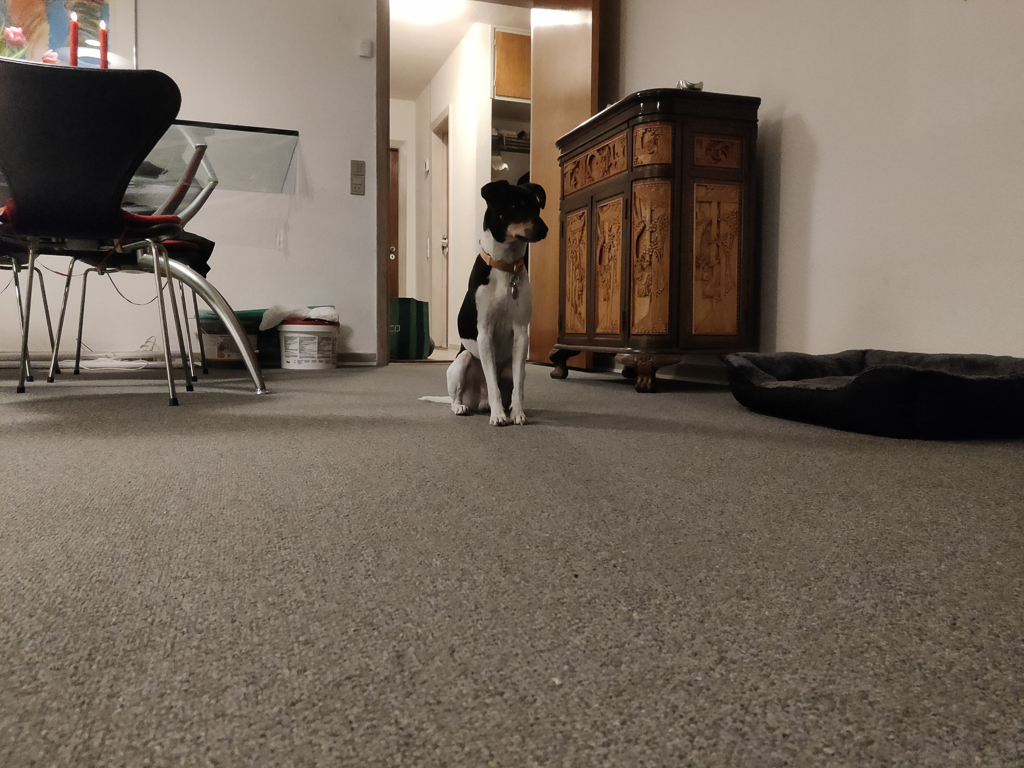Dog: (410, 161, 558, 436)
